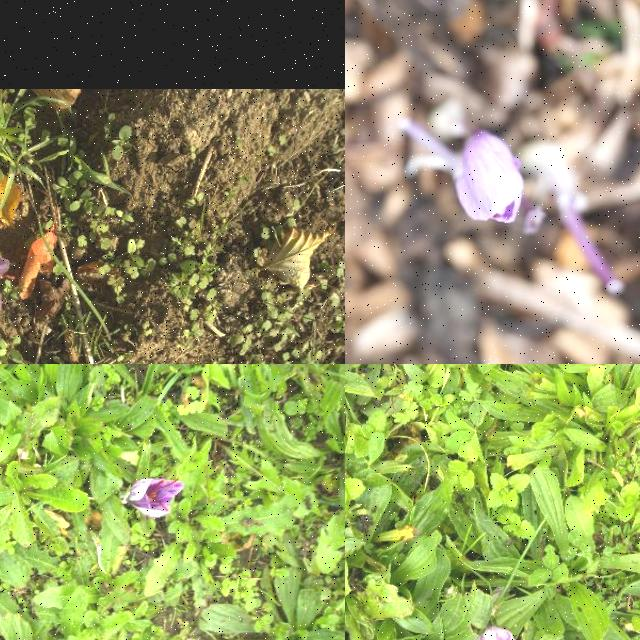flower: (450, 128, 524, 224), (126, 478, 184, 518), (470, 624, 523, 640)
